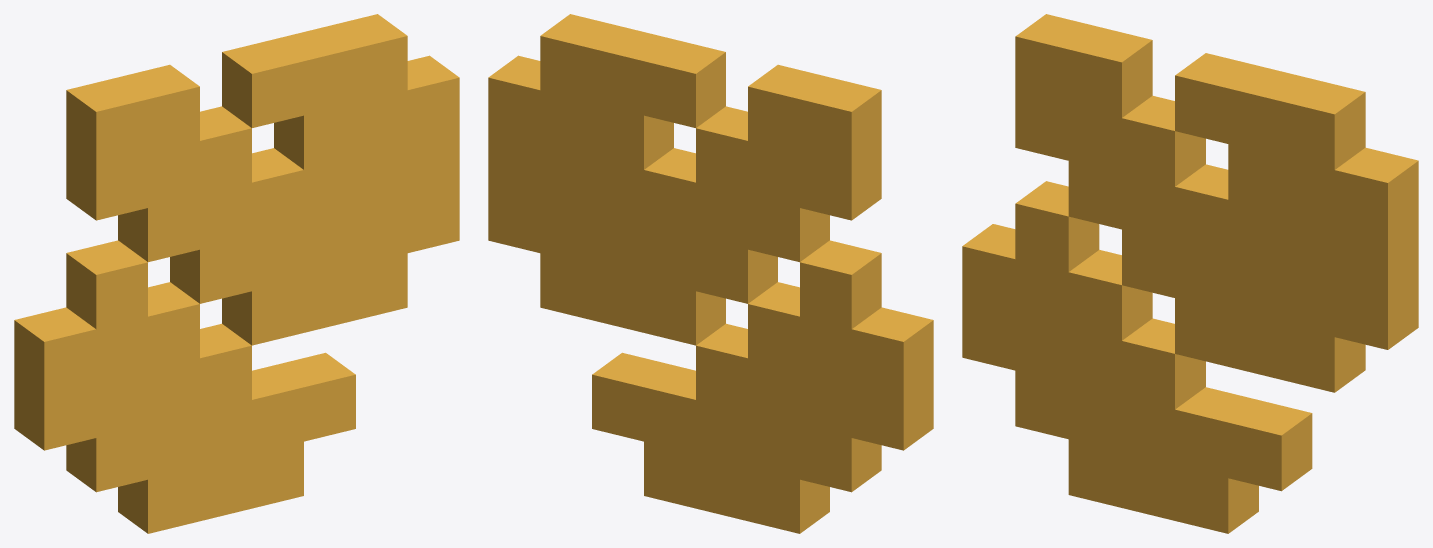
The model's file is Hauberk-Orange.vox.obj.
3 views of the same model, side by side, from view 1: azimuth 30°, elevation 25°; view 2: azimuth 150°, elevation 25°; view 3: azimuth 330°, elevation 25° (orthographic). The views are drawn at different scales.
Bounding box in the file's own units: 0.8 × 0.8 × 0.1.
1 material, 1 textured.
